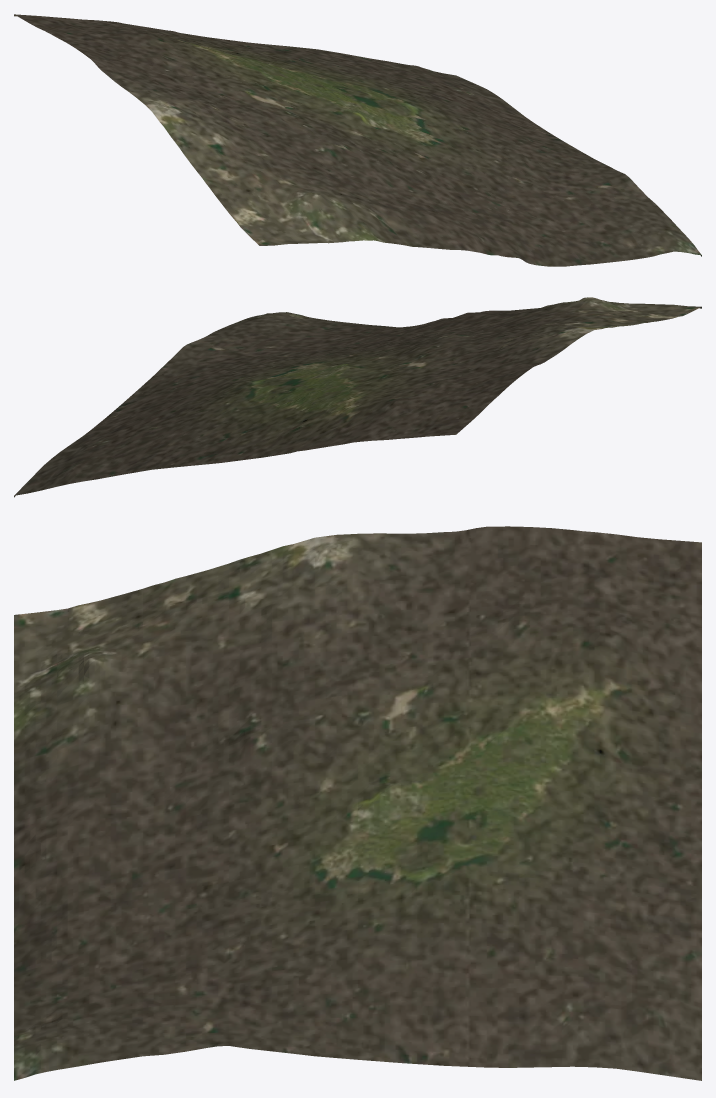
3 views of the same model, one above another, from view 1: azimuth 30°, elevation 25°; view 2: azimuth 150°, elevation 25°; view 3: azimuth 270°, elevation 25° (orthographic). The views are drawn at different scales.
Size of the model in its own units: 250 by 98.45 by 241.
Materials: 1 (1 with a texture image).
